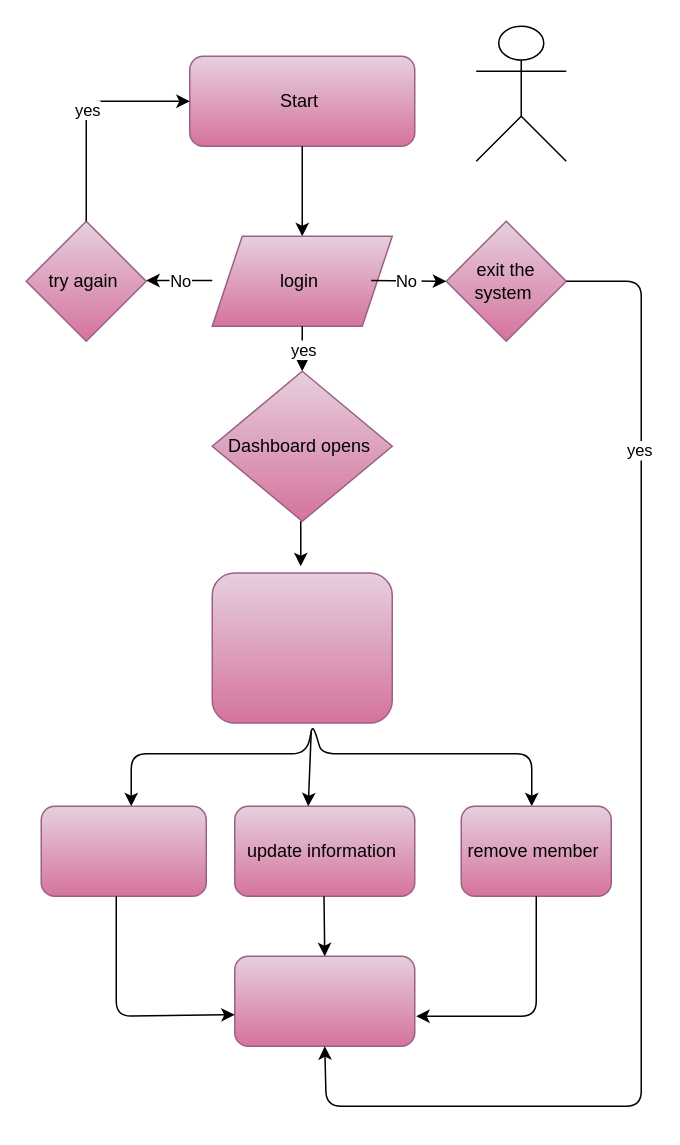
Image size: 680x1145. Some labels were removed from this diagram. The shapes that lost their labels are listed below. From the top down, each one's centre as x and y in pixels, then its label:
pixel 520 93: admin
pixel 301 647: manage members details
pixel 123 850: add member
pixel 324 1000: end
